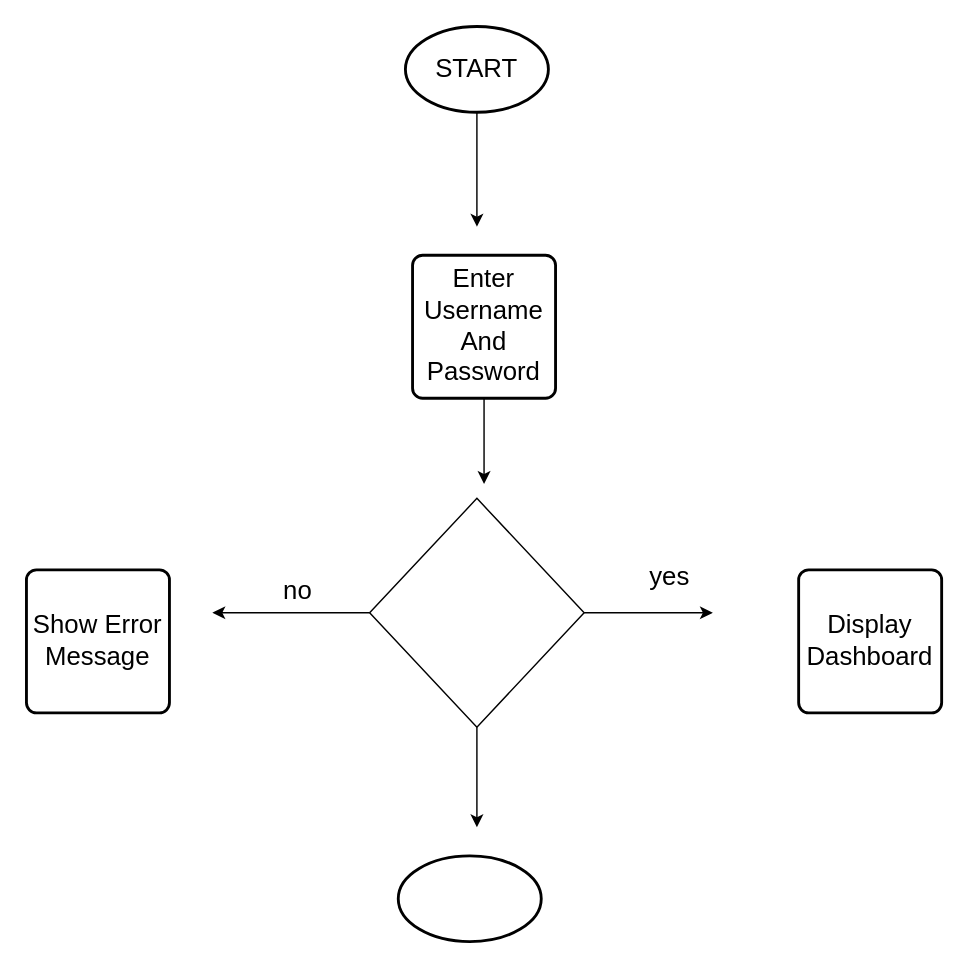
This 967x967 diagram has some shape labels left out. The shapes that lost their labels are listed below. From the top down, each one's centre as x and y in pixels, then its label:
At point 476,612: "Valid Credentials?".
At point 469,898: "END".
